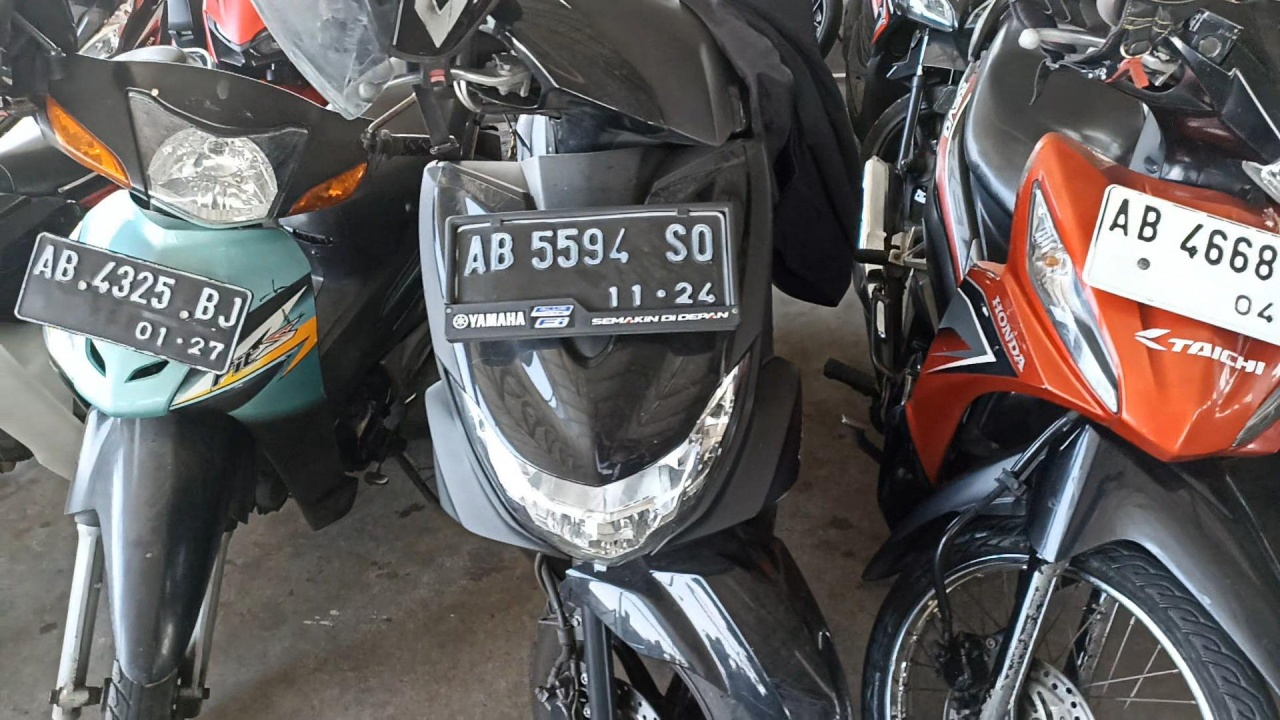plate: (13, 230, 255, 376), (453, 209, 732, 331)
